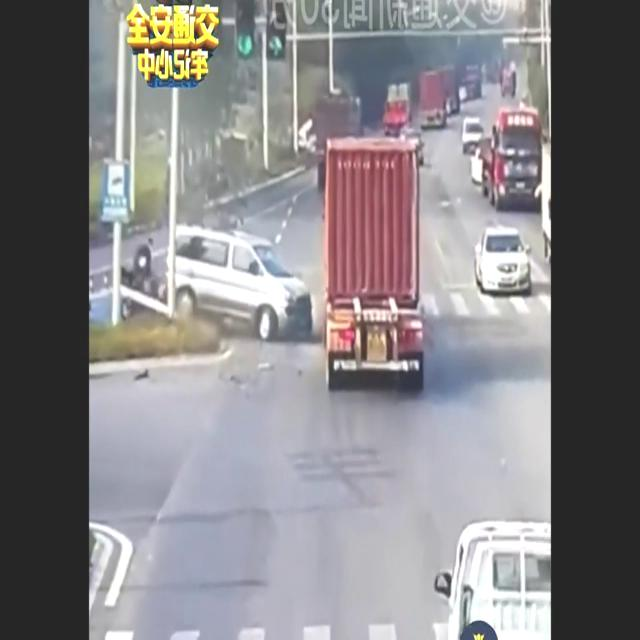accident: (166, 138, 426, 392)
non-accident: (460, 110, 546, 212), (418, 64, 479, 132)
